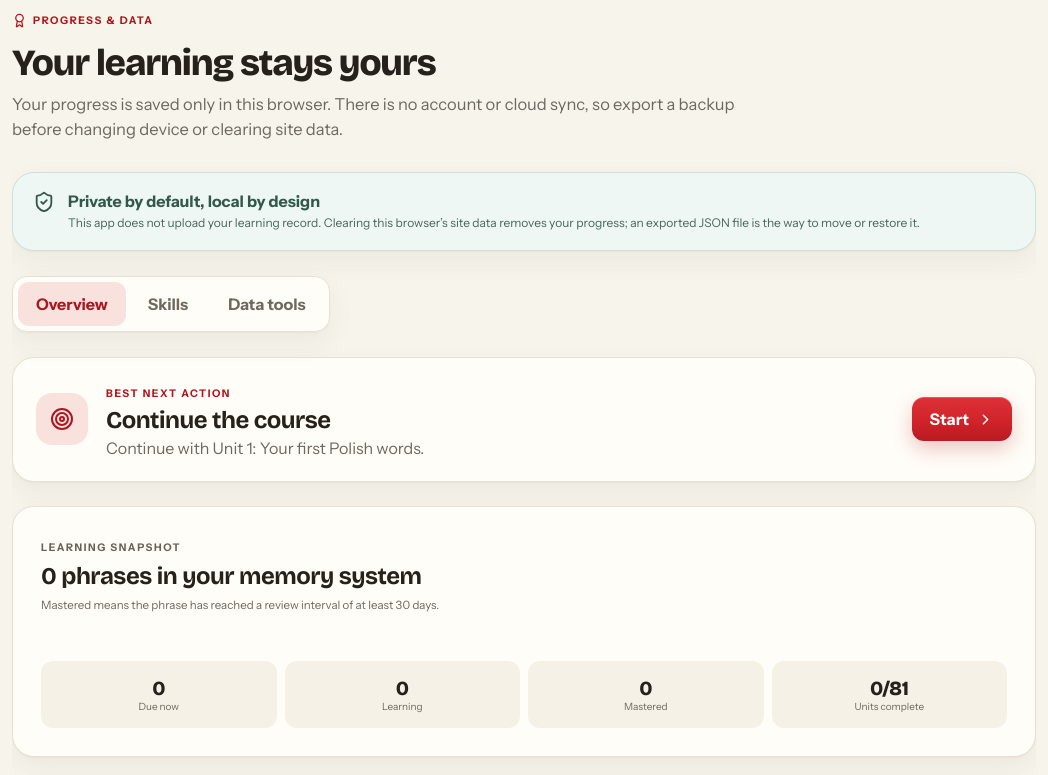
progress data tools › replaces empty analytics with a helpful fresh-learner state
Step 1. Click the tab "Skills" → x=168, y=304, box [130,282,206,326]
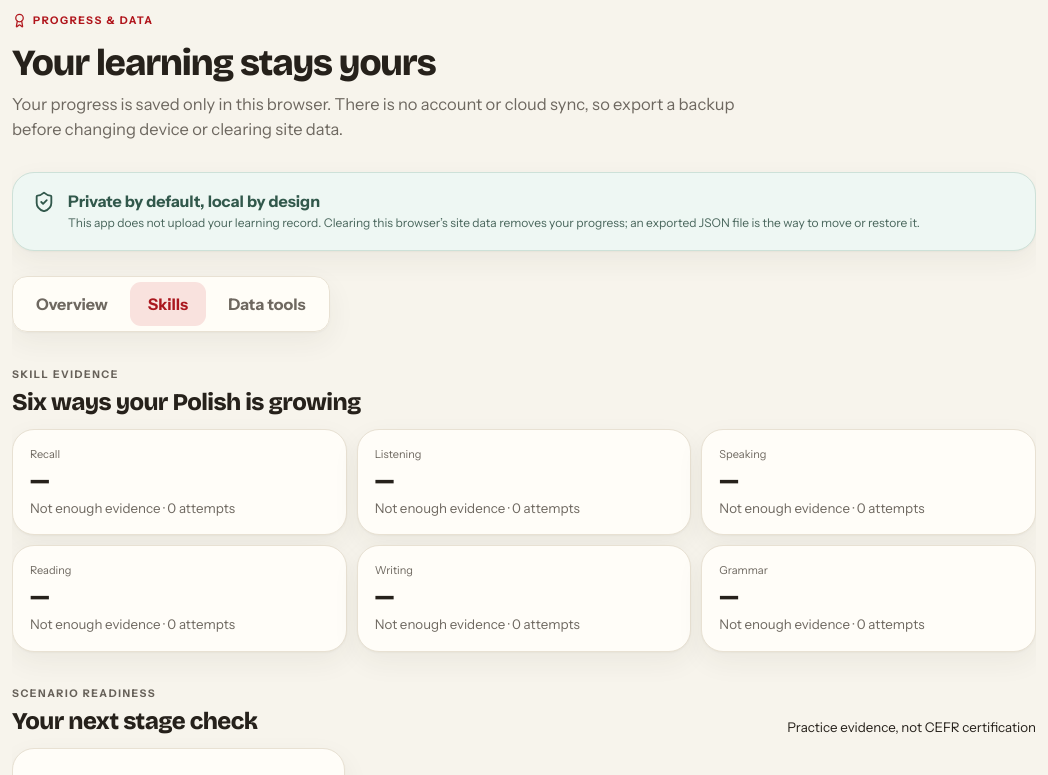
Expected: the heading "Six ways your Polish is growing" is shown, [12,388,361,416]
